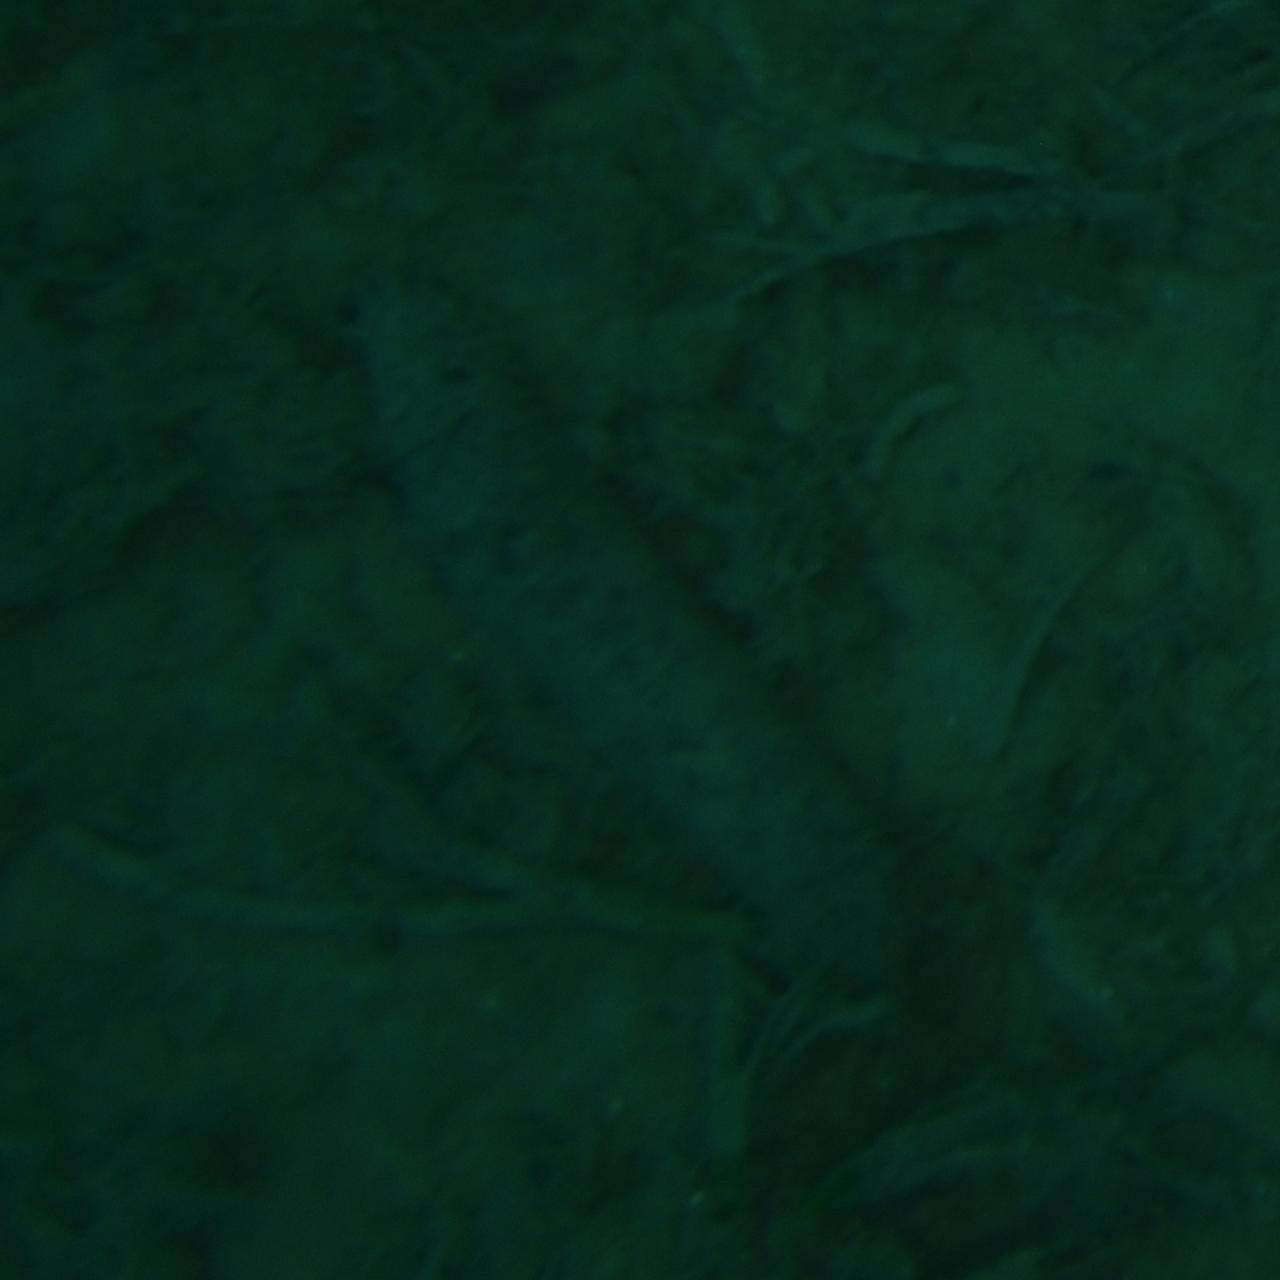Holothuria tubulosa: (348, 276, 932, 1004)
